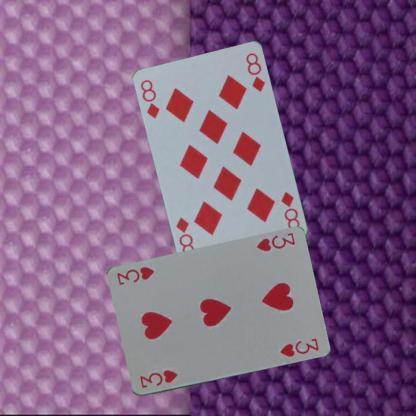3h: (136, 366, 178, 390), (254, 231, 296, 254)
8d: (278, 188, 301, 232), (138, 76, 161, 120)
